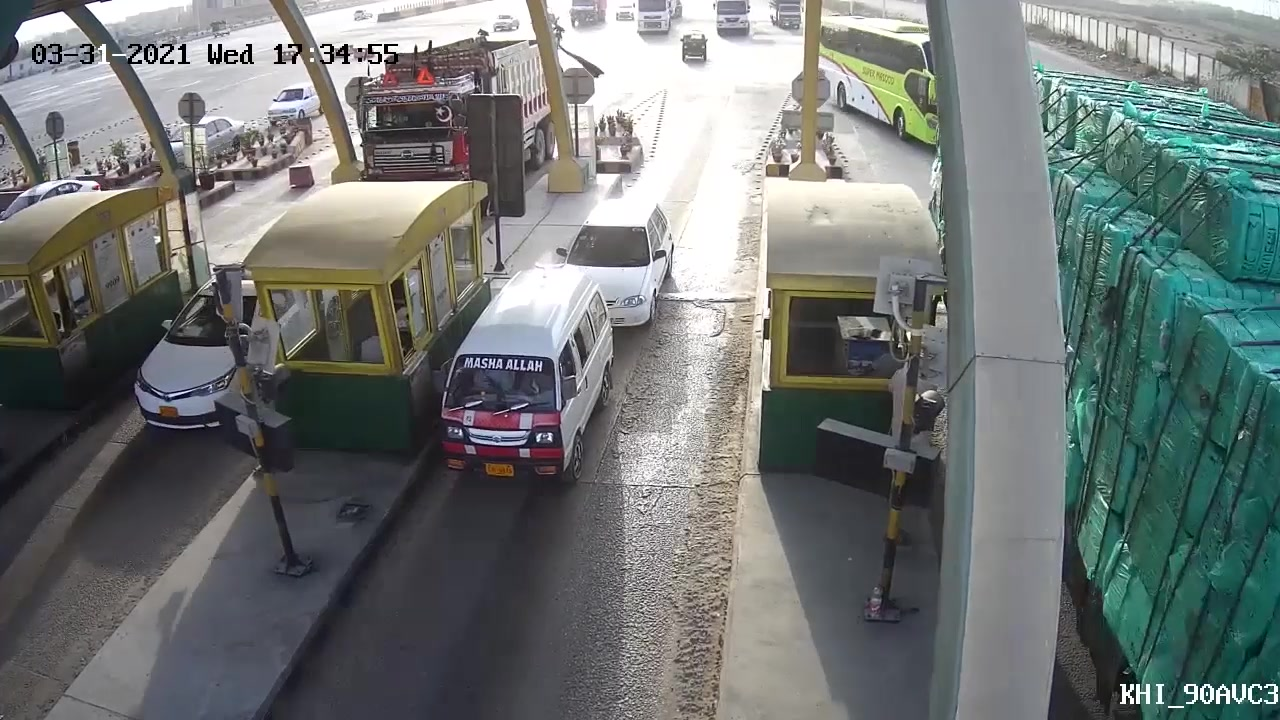F1: (424, 269, 613, 517)
